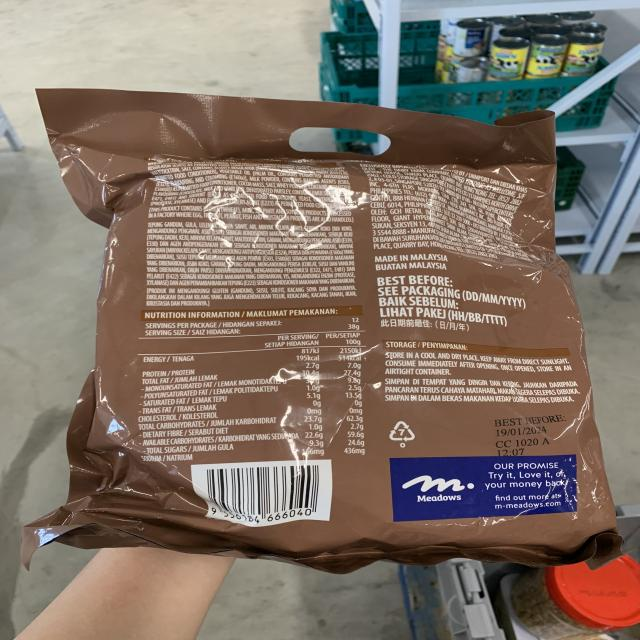object_name: (67, 95, 605, 550)
